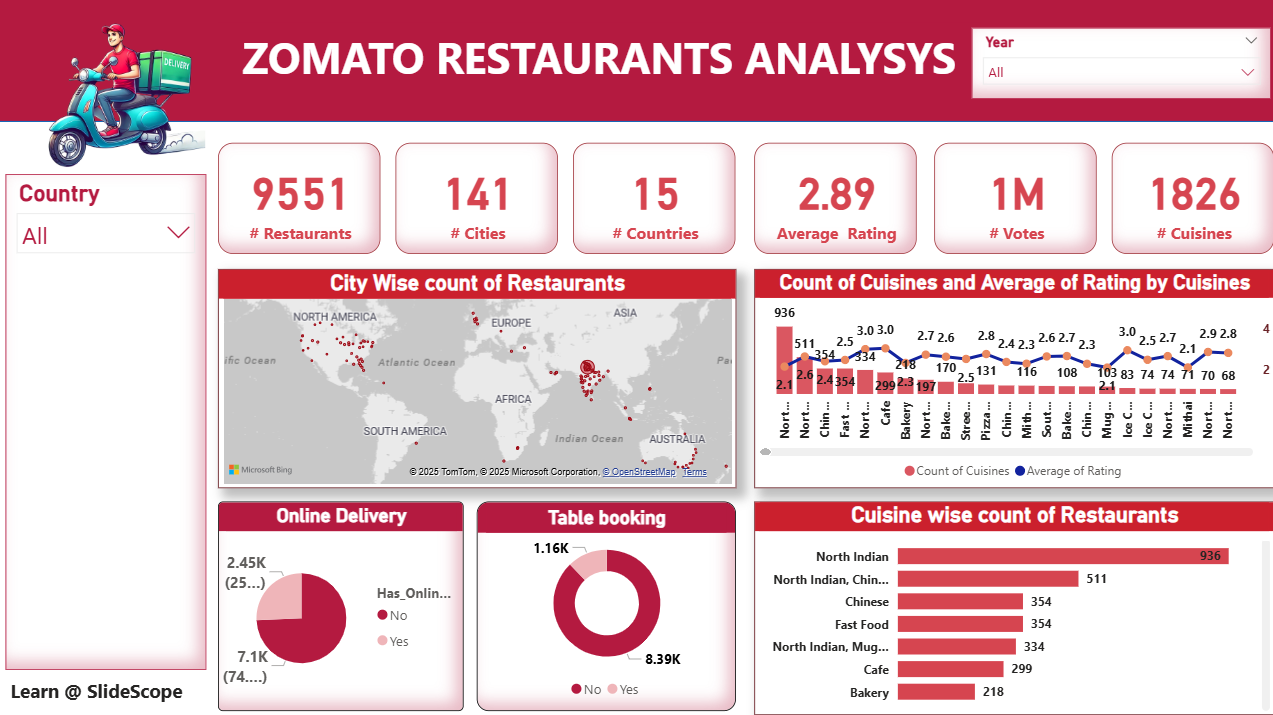

Layout of this report page (visuals, bound fields, positions):
{"tool":"powerbi","page":{"name":"Dashboard","canvas":[1280,720],"ordinal":0},"visuals":[{"type":"shape","box":[0,0,1280.4,122.9],"z":0},{"type":"image","box":[0,0,240.2,183.5],"z":1000},{"type":"textbox","box":[220,24.3,762.1,76],"z":2000},{"type":"card","fields":{"Values":["Count(restaurants.RestaurantID)"]},"box":[219.4,143.7,162.6,111.6],"z":3000},{"type":"card","fields":{"Values":["Count(restaurants.City)"]},"box":[397.2,143.7,162.6,111.6],"z":4000},{"type":"card","fields":{"Values":["Count(restaurants.CountryCode)"]},"box":[574.9,143.7,162.6,111.6],"z":5000},{"type":"card","fields":{"Values":["Avg(restaurants.Rating)"]},"box":[756.5,143.7,162.6,111.6],"z":6000},{"type":"card","fields":{"Values":["Sum(restaurants.Votes)"]},"box":[936.2,143.7,162.6,111.6],"z":7000},{"type":"card","fields":{"Values":["Count(restaurants.Cuisines)"]},"box":[1114,143.7,162.6,111.6],"z":8000},{"type":"slicer","fields":{"Values":["countries.country name"]},"box":[7.3,174.5,200.7,496],"z":9000},{"type":"lineStackedColumnComboChart","fields":{"Y":["CountNonNull(restaurants.Cuisines)"],"Category":["restaurants.Cuisines"],"Y2":["Avg(restaurants.Rating)"]},"box":[756.5,270.5,520.1,219.4],"z":10000},{"type":"map","title":"City Wise count of Restaurants","fields":{"Size":["CountNonNull(restaurants.RestaurantID)"],"Category":["restaurants.City"]},"box":[219.4,270.5,518.2,219.4],"z":11000},{"type":"clusteredBarChart","title":"Cuisine wise count of Restaurants","fields":{"Category":["restaurants.Cuisines"],"Y":["CountNonNull(restaurants.RestaurantID)"]},"box":[756.5,503.1,520.1,213.7],"z":12000},{"type":"pieChart","title":"Online Delivery","fields":{"Category":["restaurants.Has_Online_delivery"],"Y":["CountNonNull(restaurants.RestaurantID)"]},"box":[219.4,503.1,245.9,209.9],"z":13000},{"type":"donutChart","title":"Table booking ","fields":{"Category":["restaurants.Has_Table_booking"],"Y":["CountNonNull(restaurants.RestaurantID)"]},"box":[478.5,503.1,259.1,209.9],"z":14000},{"type":"slicer","fields":{"Values":["restaurants.Datekey_Opening.Variation.Date Hierarchy.Year"]},"box":[974,29.1,299.3,71.2],"z":15000},{"type":"textbox","box":[7.3,673.5,200.7,39.3],"z":16000}]}

Visuals, with their boxes in screenshot pixels (x1, y1, x2, y2), scaled from the page's 1280x720 canvas onto the 1273x715 screenshot:
shape: left=0, top=0, right=1272, bottom=122
image: left=0, top=0, right=239, bottom=182
textbox: left=219, top=24, right=977, bottom=100
card - Count(restaurants.RestaurantID): left=218, top=143, right=380, bottom=254
card - Count(restaurants.City): left=395, top=143, right=557, bottom=254
card - Count(restaurants.CountryCode): left=572, top=143, right=733, bottom=254
card - Avg(restaurants.Rating): left=752, top=143, right=914, bottom=254
card - Sum(restaurants.Votes): left=931, top=143, right=1093, bottom=254
card - Count(restaurants.Cuisines): left=1108, top=143, right=1270, bottom=254
slicer - countries.country name: left=7, top=173, right=207, bottom=666
lineStackedColumnComboChart - CountNonNull(restaurants.Cuisines) x restaurants.Cuisines: left=752, top=269, right=1270, bottom=486
"City Wise count of Restaurants" map: left=218, top=269, right=734, bottom=486
"Cuisine wise count of Restaurants" clusteredBarChart: left=752, top=500, right=1270, bottom=712
"Online Delivery" pieChart: left=218, top=500, right=463, bottom=708
"Table booking " donutChart: left=476, top=500, right=734, bottom=708
slicer - restaurants.Datekey_Opening.Variation.Date Hierarchy.Year: left=969, top=29, right=1266, bottom=100
textbox: left=7, top=669, right=207, bottom=708
